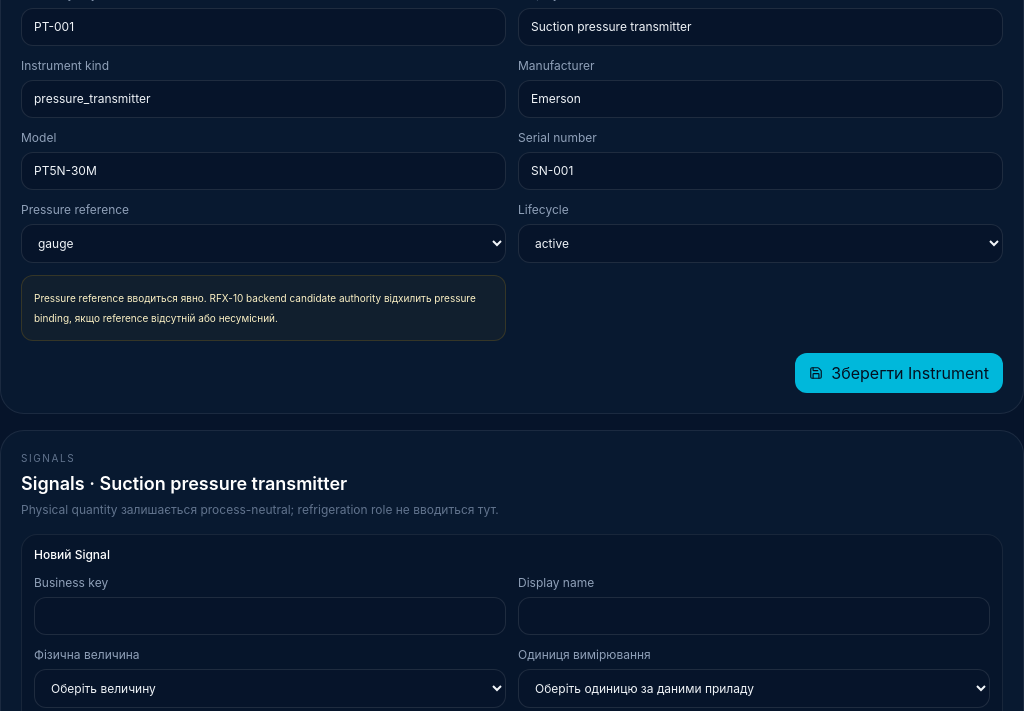
InstrumentationRegistryWorkspace › surfaces optimistic-concurrency rejection instead of hiding it
(page scrolled)
Click the button "Зберегти Instrument" at coordinates (899, 372), box [795,352,1003,392]
(page scrolled)
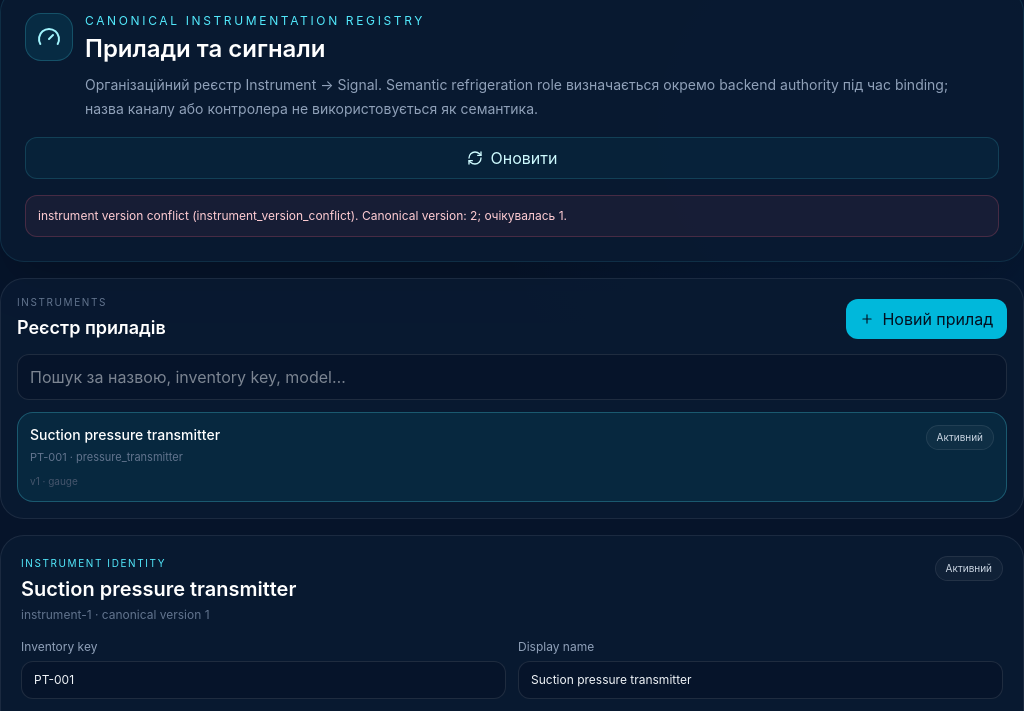
Expected: the message shows "instrument_version_conflict", [38,208,567,223]
Expected: the message shows "Canonical version: 2", [38,208,567,223]
